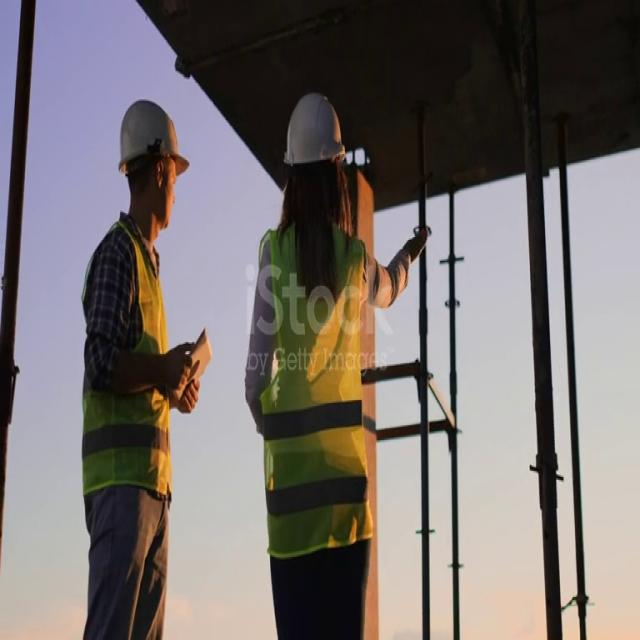capacete: (107, 84, 193, 188), (266, 76, 354, 176)
